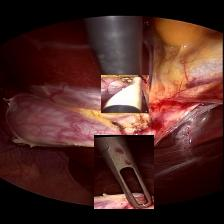Grasper: (94, 134, 154, 208)
Hook: (101, 74, 149, 112)
